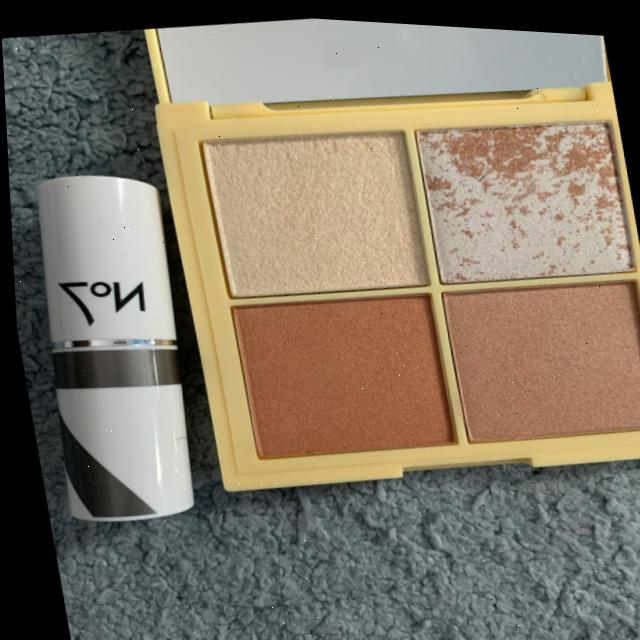eye shade: (218, 262, 457, 469), (421, 258, 640, 457)
highlighter: (184, 105, 427, 312), (399, 90, 640, 290)
lip stick: (6, 155, 228, 550)
